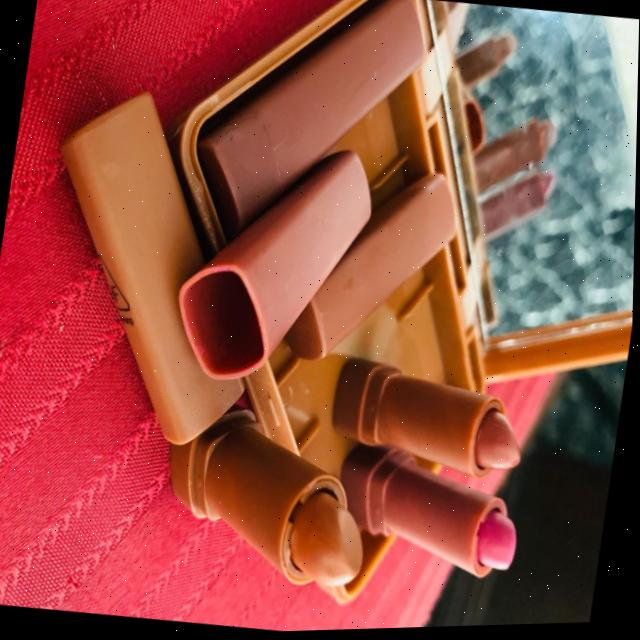lip stick: (118, 320, 567, 637)
